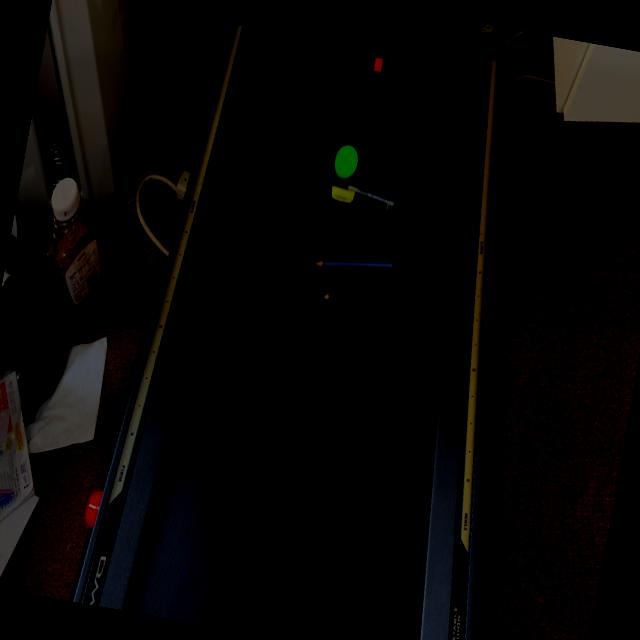Recycle: (332, 142, 360, 182), (371, 55, 384, 74)
Trash: (322, 268, 404, 312), (326, 175, 403, 219), (314, 246, 394, 281)
